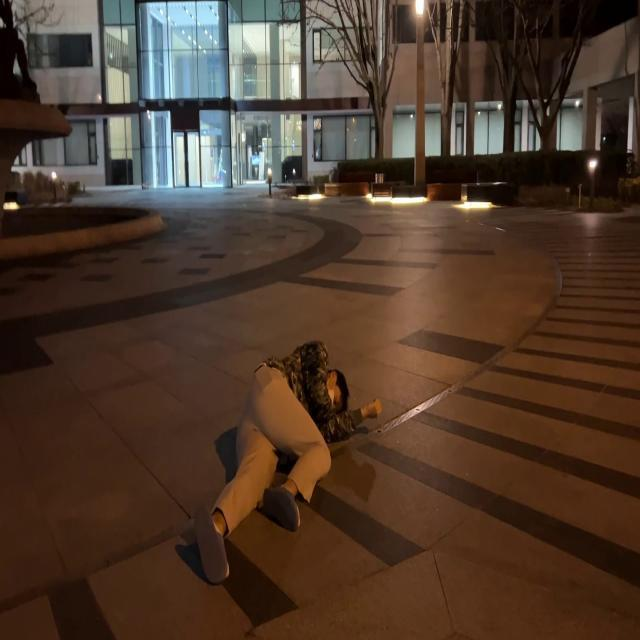Fall: (194, 342, 383, 586)
